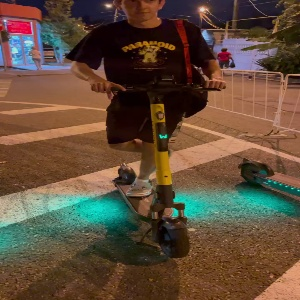human on a scooter: (68, 1, 228, 262)
